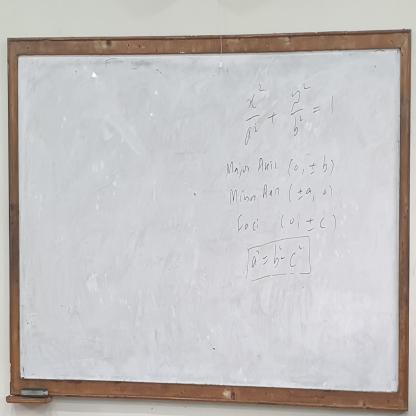Handwritten text: (225, 154, 279, 184), (227, 184, 282, 208)
Whiteboard: (14, 46, 403, 391)
